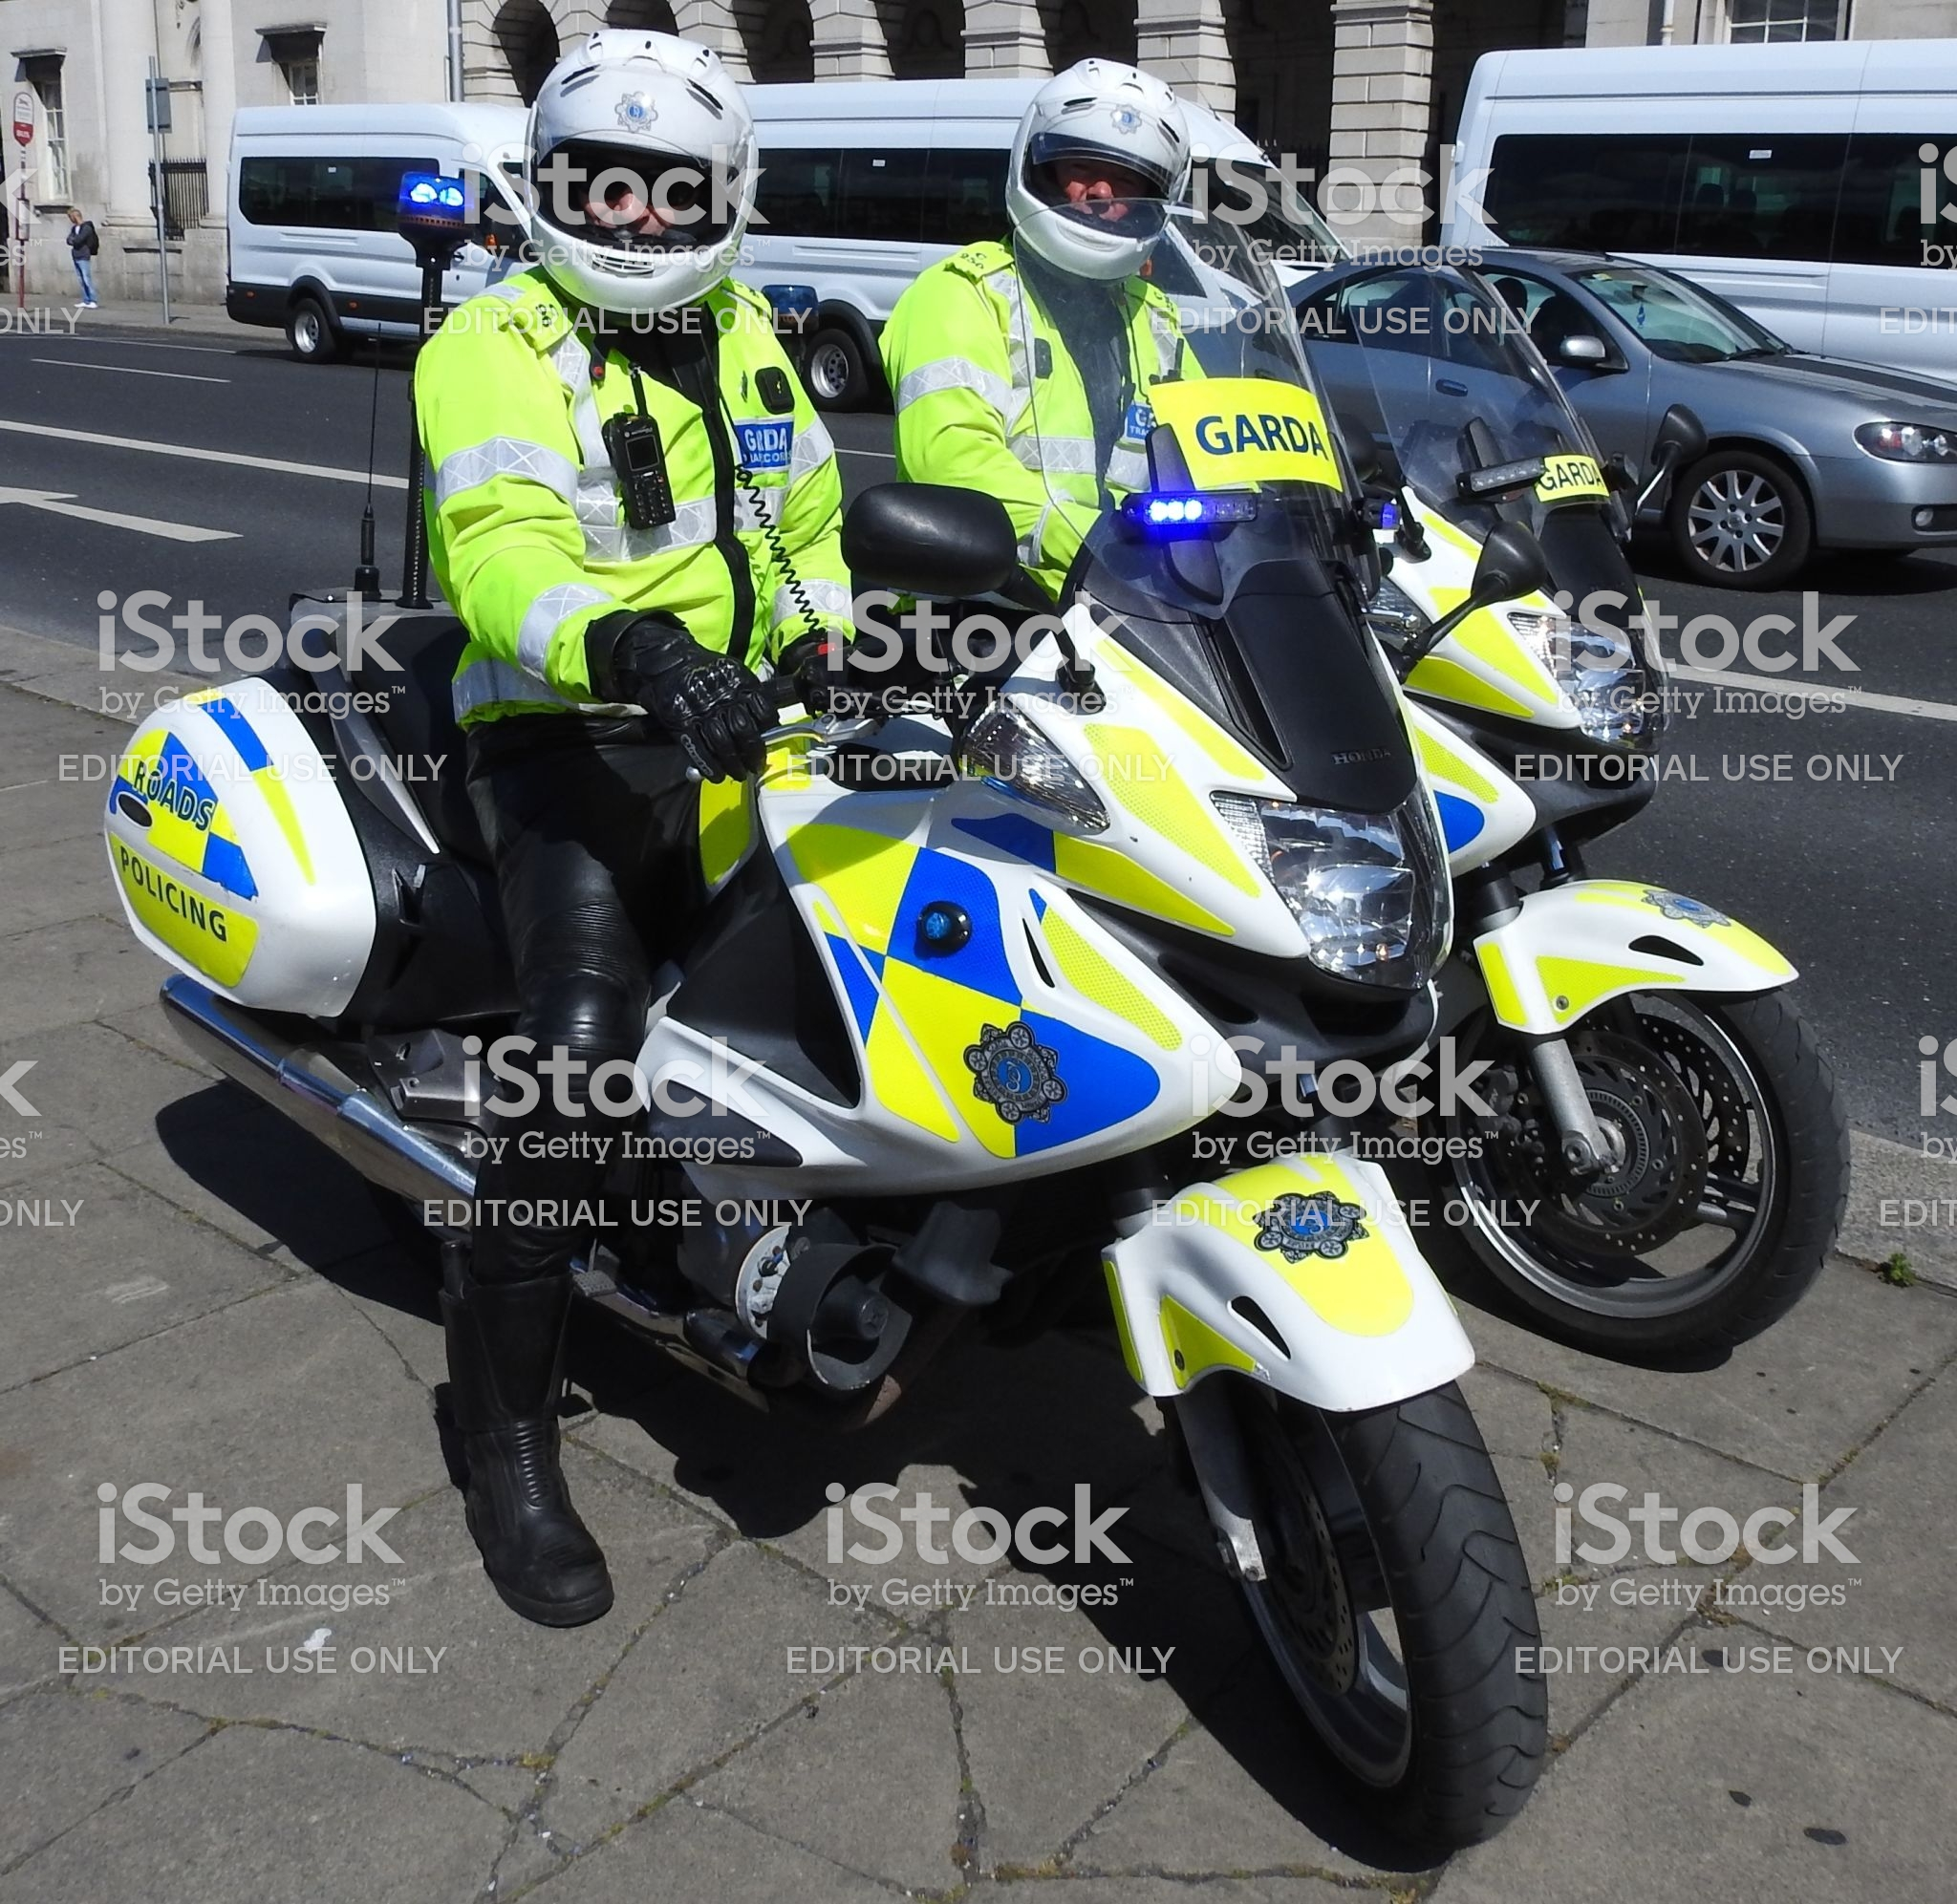helmet: (491, 31, 781, 358), (992, 63, 1199, 299)
